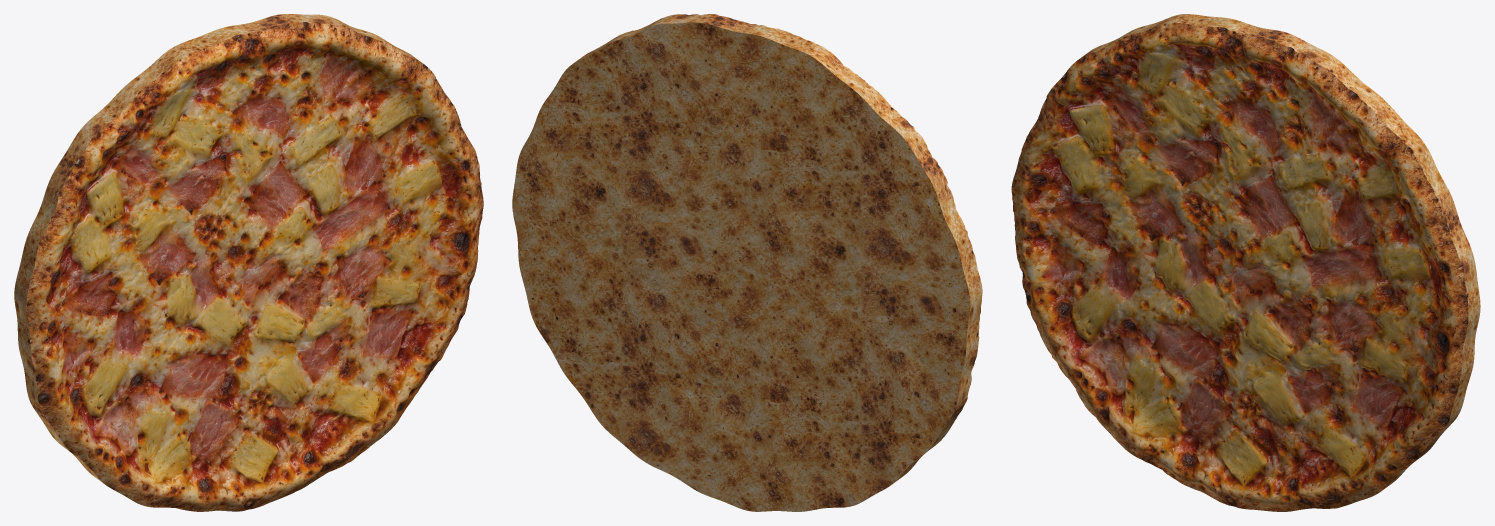
The picture shows the model from 3 angles, left to right: view 1: azimuth 30°, elevation 25°; view 2: azimuth 150°, elevation 25°; view 3: azimuth 330°, elevation 25°; orthographic projection.
Visible parts, largest first — view 1: PizzaTop, BrownedCrustSide; view 2: BakedUnderside, BrownedCrustSide; view 3: PizzaTop, BrownedCrustSide.
Part boxes in pixels (left/top/right/bottom): PizzaTop: left=26, top=22, right=483, bottom=511; BrownedCrustSide: left=14, top=14, right=483, bottom=511; BakedUnderside: left=512, top=22, right=970, bottom=511; BrownedCrustSide: left=573, top=14, right=982, bottom=483; PizzaTop: left=1011, top=23, right=1468, bottom=511; BrownedCrustSide: left=1032, top=14, right=1480, bottom=511.
Size of the model in its own units: 0.3824 by 0.3813 by 0.026.
Materials: 5 (4 with a texture image).
